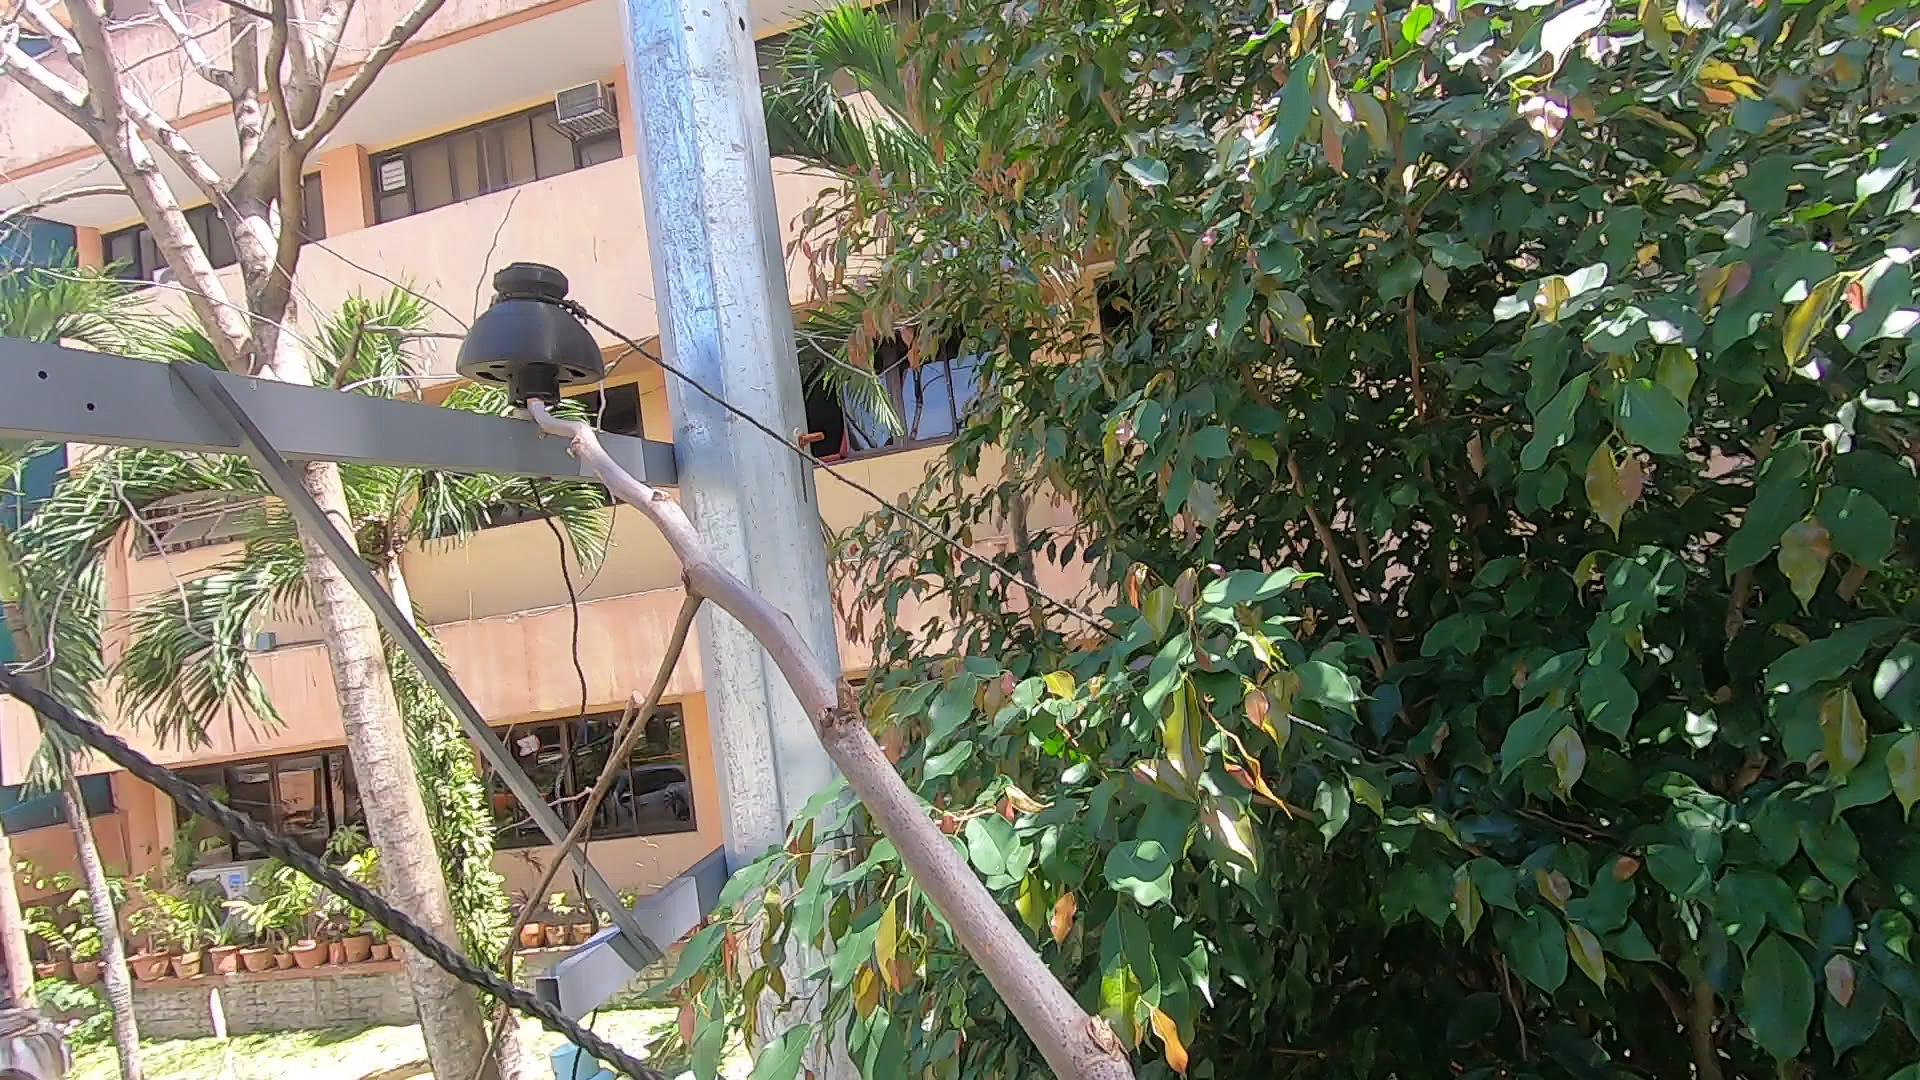branch with leaves: (674, 774, 960, 1080)
tree branch: (386, 255, 1171, 1080)
